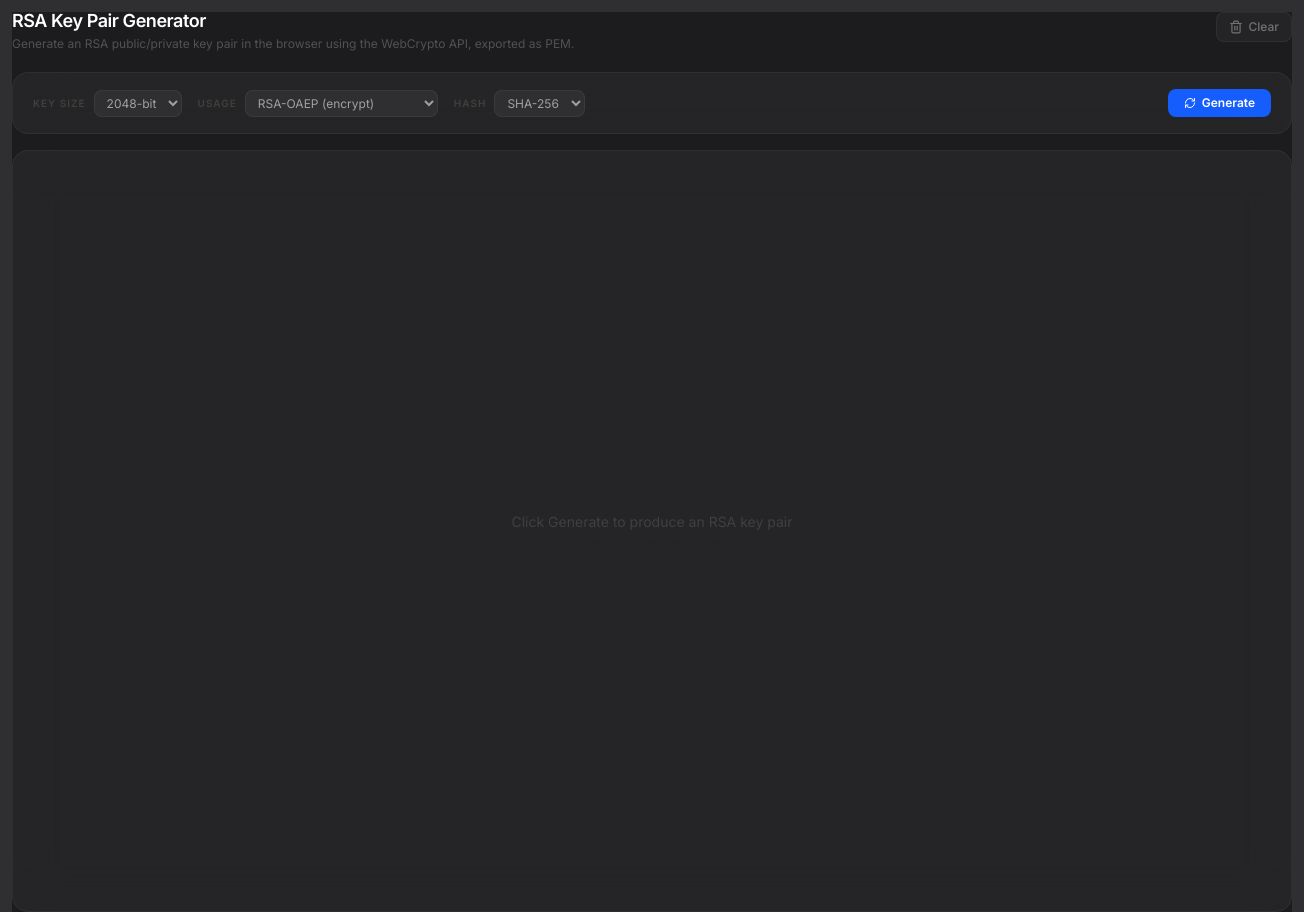
Test case: RsaKeyPairGenerator › generates a PEM-encoded public and private key pair
Click the button "Generate" at (1219, 103), box x1=1168 y1=89 x2=1271 y2=117
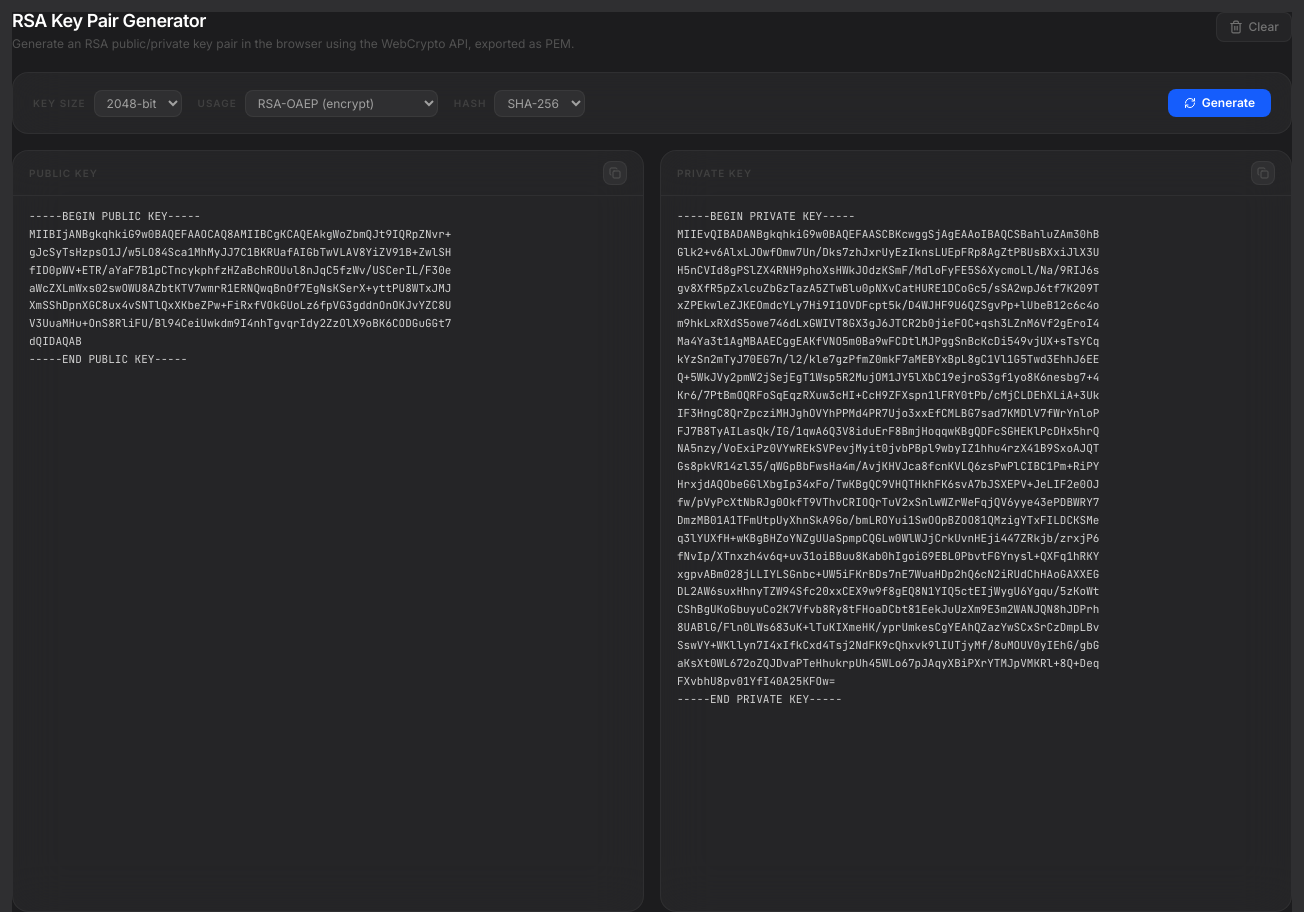
Check: the text with test id "public-key" shows "BEGIN PUBLIC KEY", box x1=29 y1=209 x2=451 y2=366
Check: the text with test id "private-key" shows "BEGIN PRIVATE KEY", box x1=677 y1=209 x2=1099 y2=706
